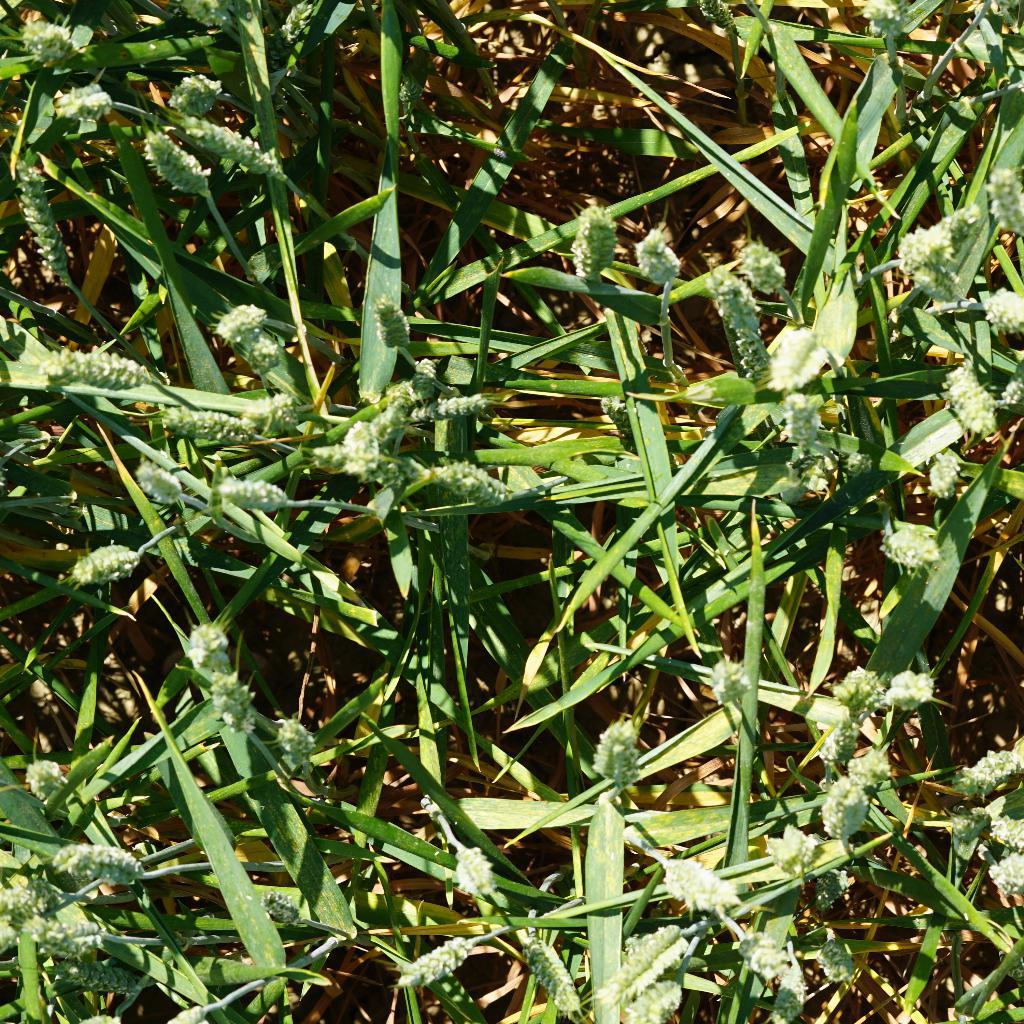0-0: (14, 156, 92, 302), (164, 107, 303, 187), (596, 919, 694, 1009), (208, 298, 302, 391), (554, 194, 636, 295), (810, 746, 892, 847), (894, 203, 985, 293), (703, 271, 774, 385), (27, 340, 168, 397), (650, 841, 746, 923), (504, 934, 586, 1024), (134, 127, 223, 204), (169, 619, 260, 692), (616, 224, 692, 309), (115, 453, 212, 519), (40, 833, 153, 889), (388, 930, 475, 1000), (580, 714, 653, 793), (145, 402, 262, 451), (425, 453, 526, 507), (253, 707, 328, 778), (58, 538, 149, 593), (940, 357, 1001, 439), (759, 325, 833, 392), (197, 671, 268, 737), (308, 439, 412, 484), (50, 953, 157, 996), (25, 913, 108, 966), (950, 740, 1024, 799), (260, 384, 328, 448), (432, 840, 500, 903), (880, 520, 952, 579), (767, 393, 836, 452), (163, 68, 234, 124), (878, 661, 948, 717), (743, 925, 799, 991), (10, 15, 82, 66), (724, 246, 789, 302), (212, 478, 303, 516), (694, 653, 758, 707), (763, 823, 819, 884), (12, 750, 73, 806), (618, 980, 693, 1024), (50, 80, 113, 132), (342, 507, 393, 571), (813, 933, 866, 993), (980, 166, 1024, 238), (855, 1, 927, 43), (264, 0, 322, 51), (923, 452, 978, 505), (251, 885, 311, 933), (410, 392, 493, 426), (375, 380, 415, 448), (834, 661, 882, 716), (370, 293, 414, 352), (0, 877, 63, 918), (169, 0, 254, 30), (982, 283, 1024, 343), (808, 717, 860, 763), (774, 964, 811, 1024), (795, 445, 842, 491), (983, 843, 1024, 894), (343, 420, 379, 476), (811, 865, 853, 912), (595, 382, 639, 426), (694, 0, 746, 34), (984, 812, 1024, 856), (948, 803, 988, 847), (0, 901, 29, 955), (412, 355, 445, 399), (843, 447, 873, 483), (395, 72, 425, 103), (1004, 361, 1024, 407)
